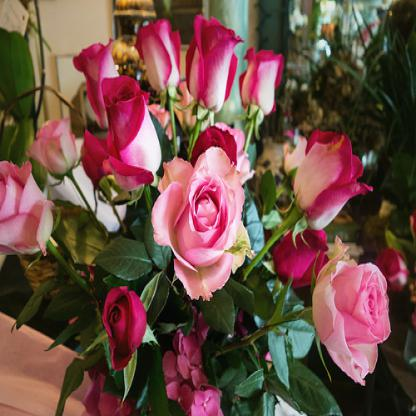ROSE-MAWAR: (4, 10, 397, 416)
